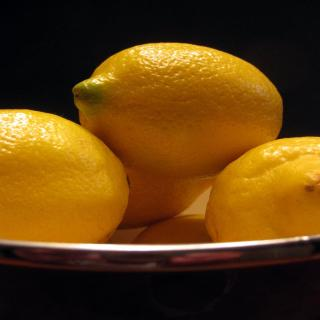Lemon: (0, 41, 320, 246), (0, 108, 132, 245)
